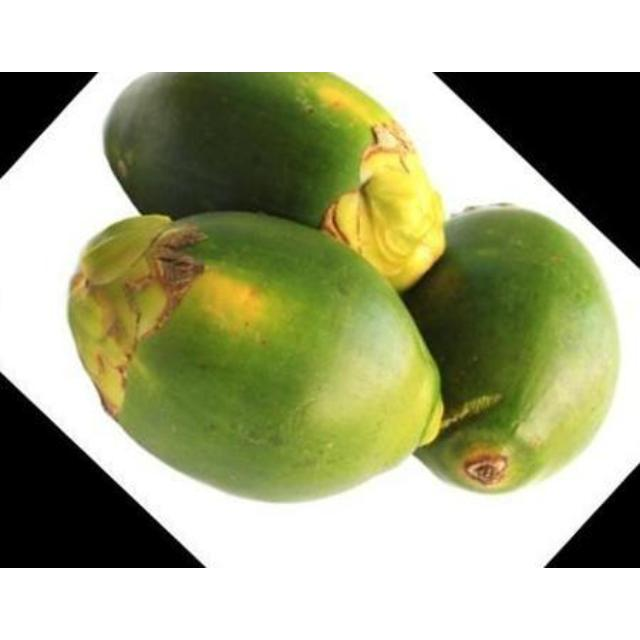good: (64, 210, 442, 507), (104, 72, 447, 294), (400, 206, 622, 496)
